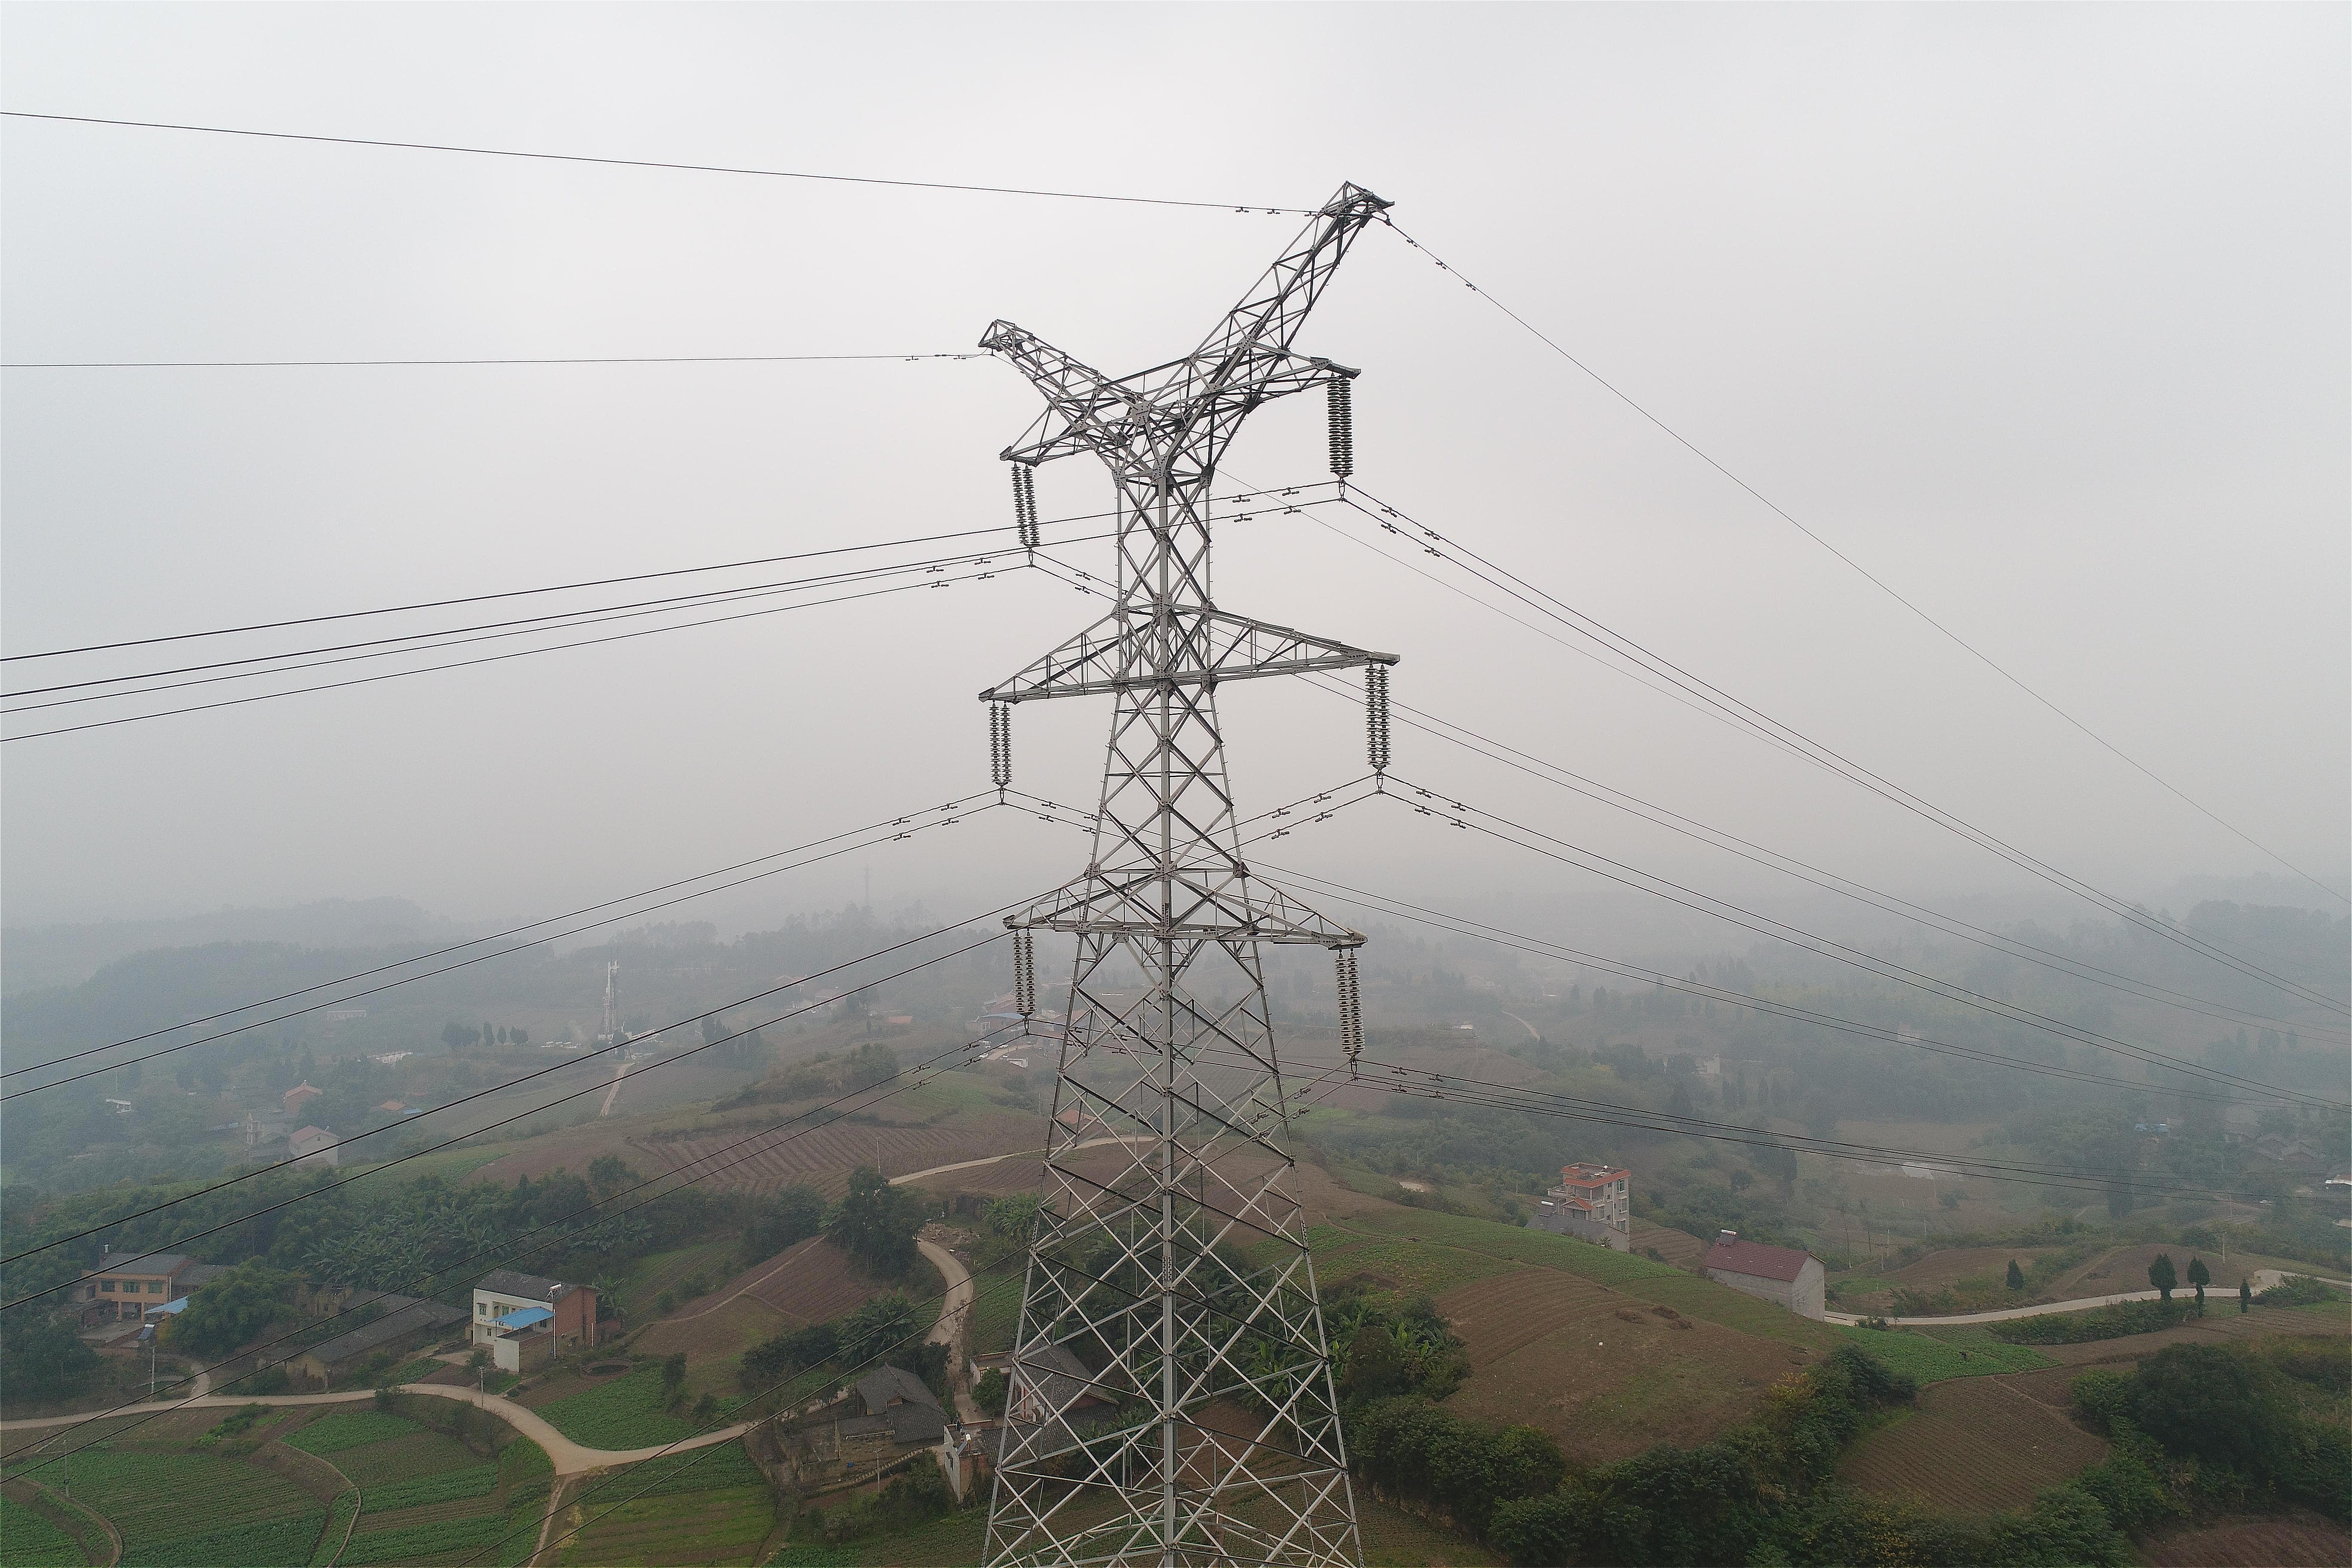insultor4: (1356, 663, 1400, 770), (1332, 955, 1372, 1064), (1004, 462, 1048, 553), (1323, 374, 1360, 481), (987, 702, 1017, 789), (1011, 929, 1041, 1017)
